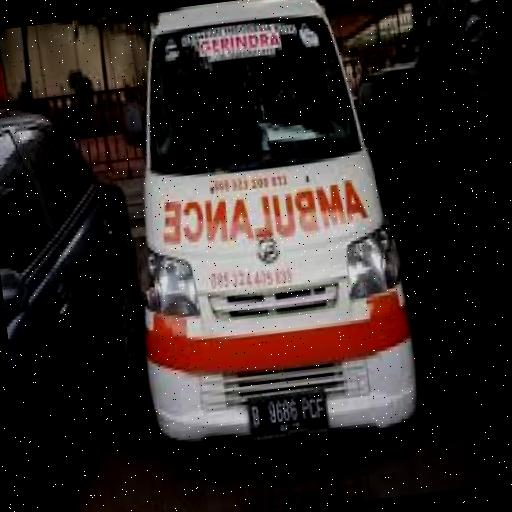Police car: (104, 0, 421, 455)
